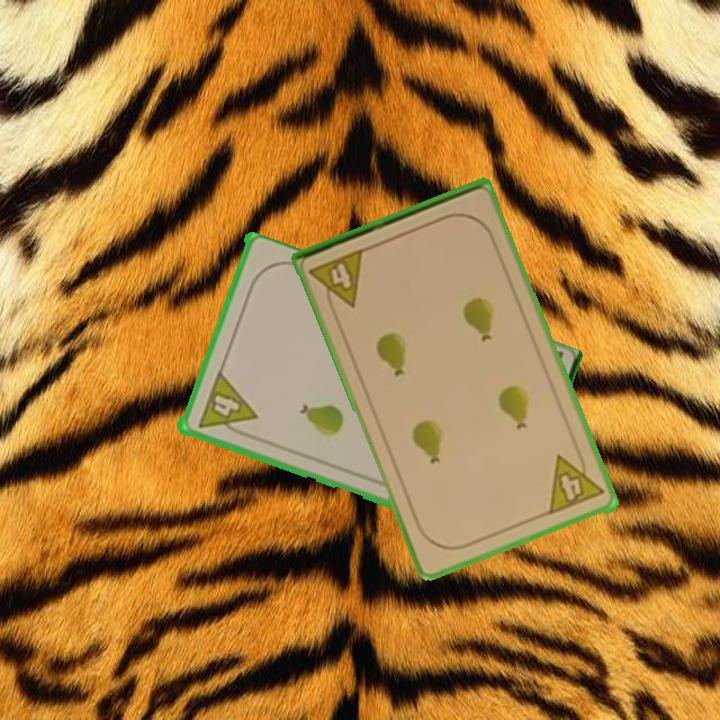4p: (194, 369, 259, 441), (544, 445, 607, 518), (305, 245, 368, 317)
